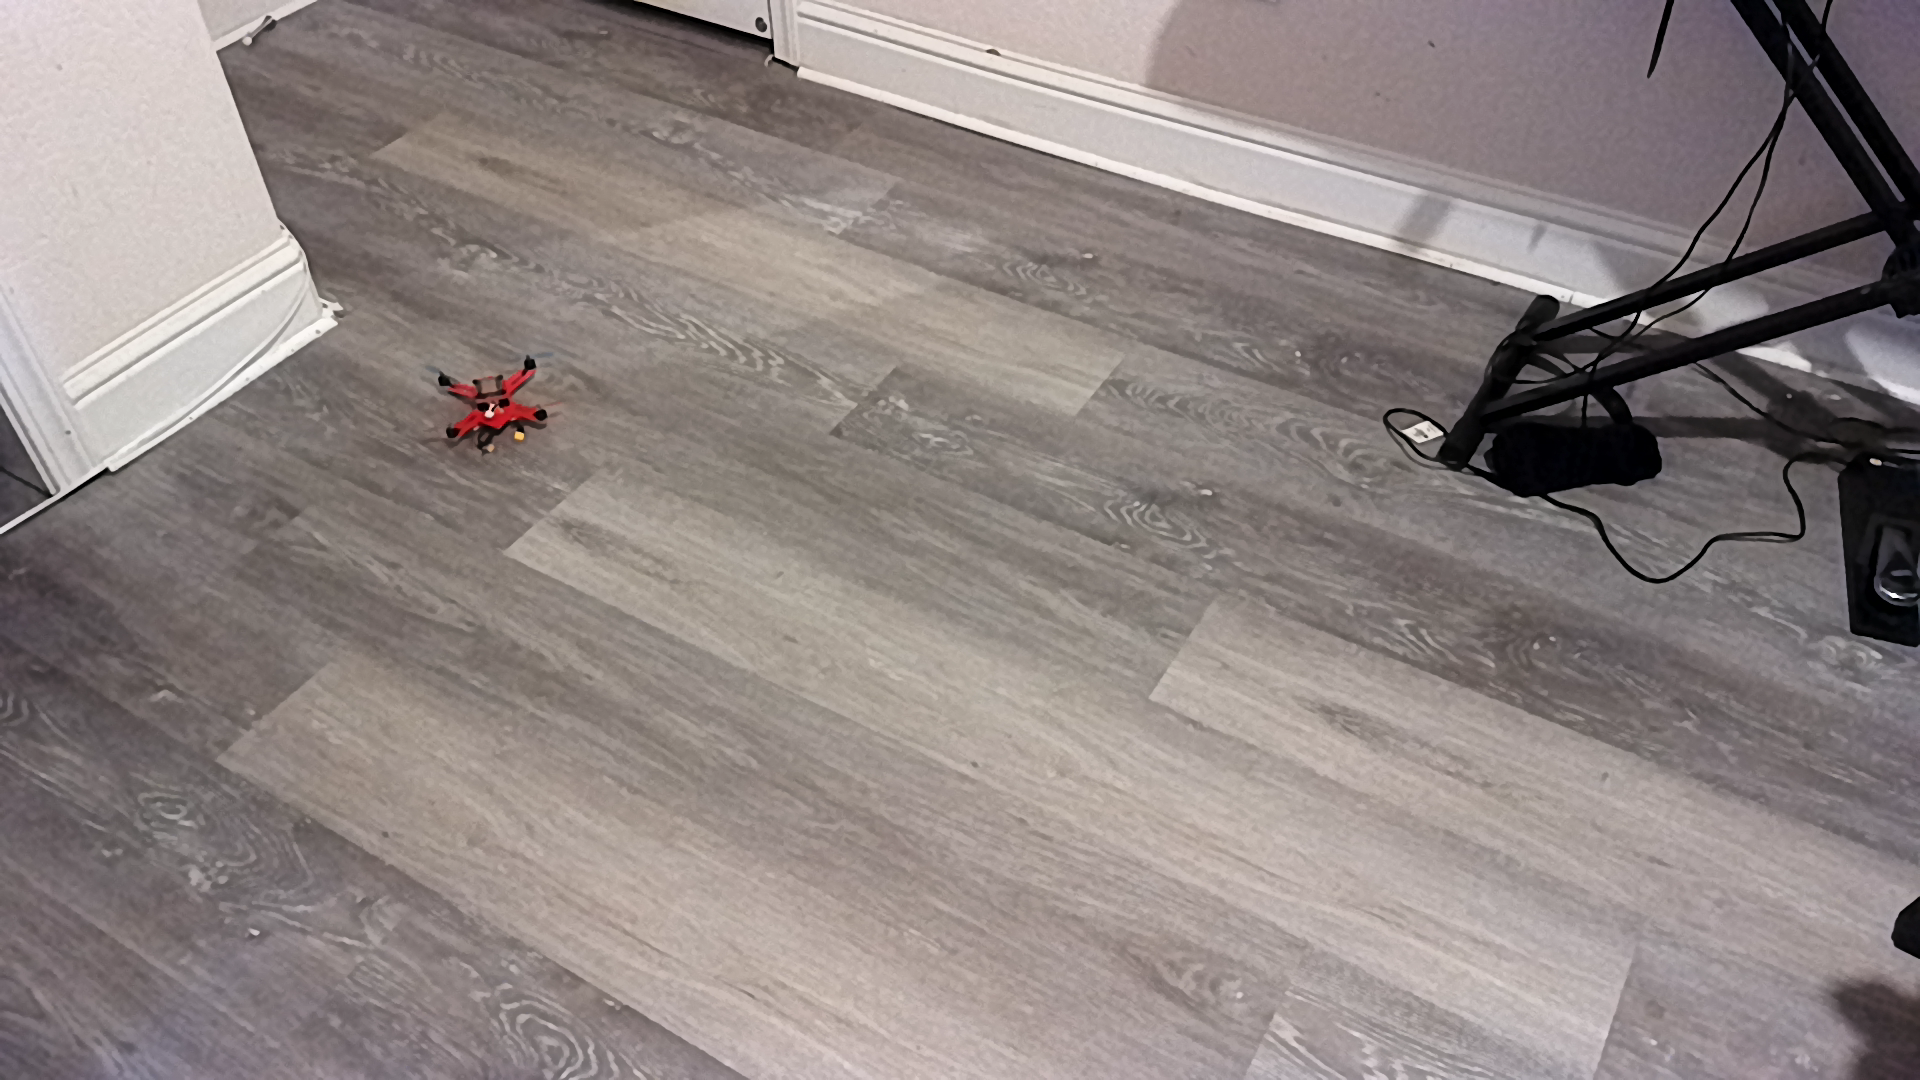drone: (411, 353, 589, 462)
